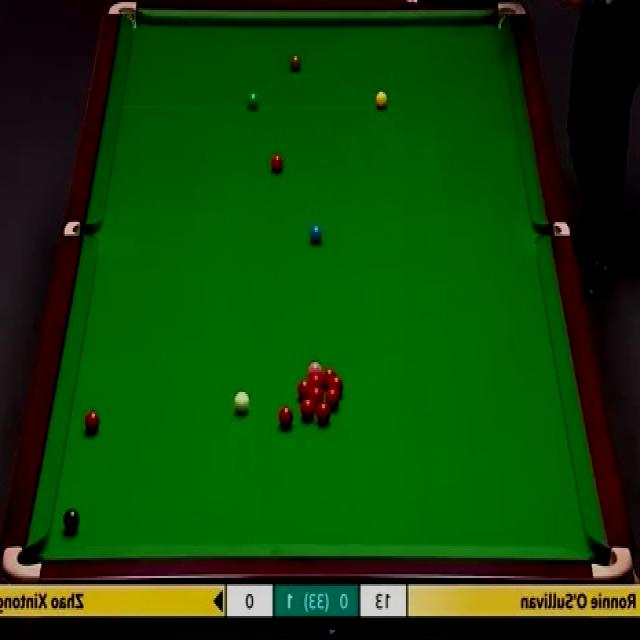black-ball: (64, 509, 80, 535)
blue-ball: (309, 222, 324, 245)
brown-ball: (289, 54, 302, 74)
green-ball: (245, 91, 261, 112)
pink-ball: (308, 361, 322, 372)
red-ball: (300, 398, 315, 422), (84, 410, 100, 432), (278, 409, 293, 430), (269, 154, 283, 175), (322, 369, 336, 388), (317, 402, 330, 422), (329, 376, 342, 396), (324, 391, 338, 409), (298, 379, 311, 398), (309, 386, 323, 401), (310, 371, 322, 387)
white-ball: (233, 393, 251, 418)
yellow-ball: (375, 90, 388, 110)
